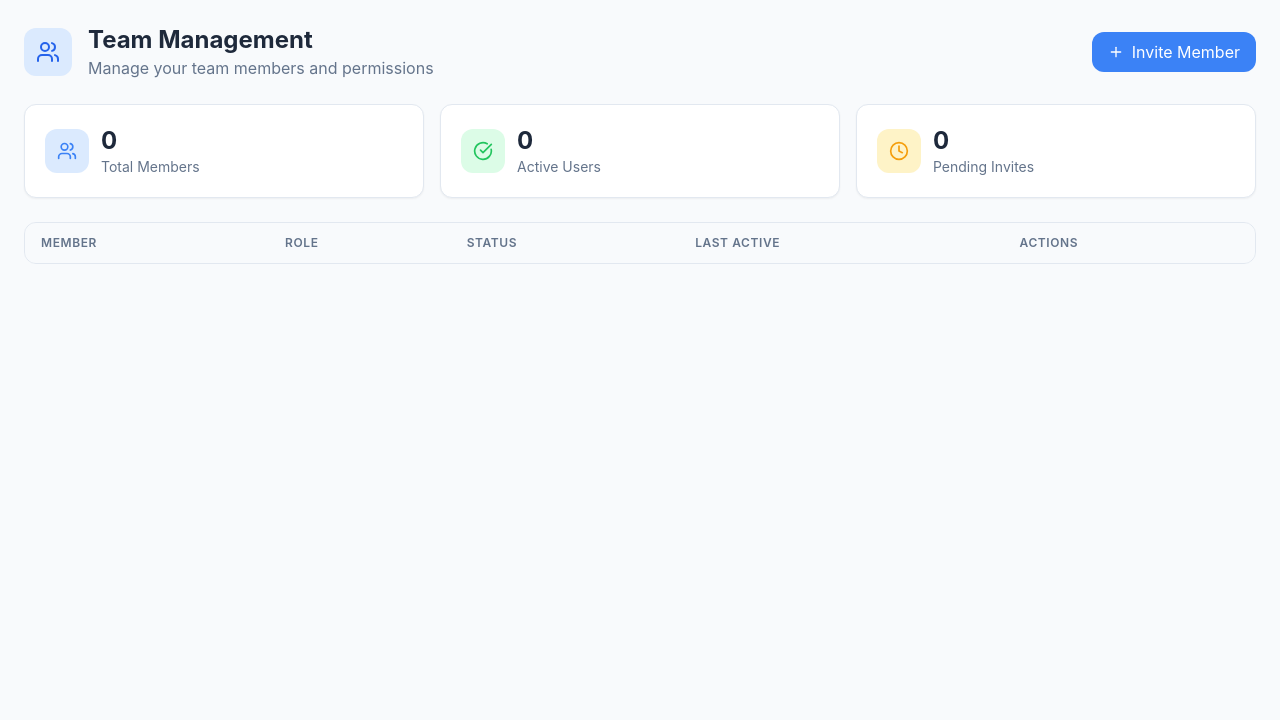
Test: TeamPage › invite button › should open modal when Invite button is clicked
Click the button "Invite Member".
click(1174, 52)  # box [1092, 32, 1256, 72]
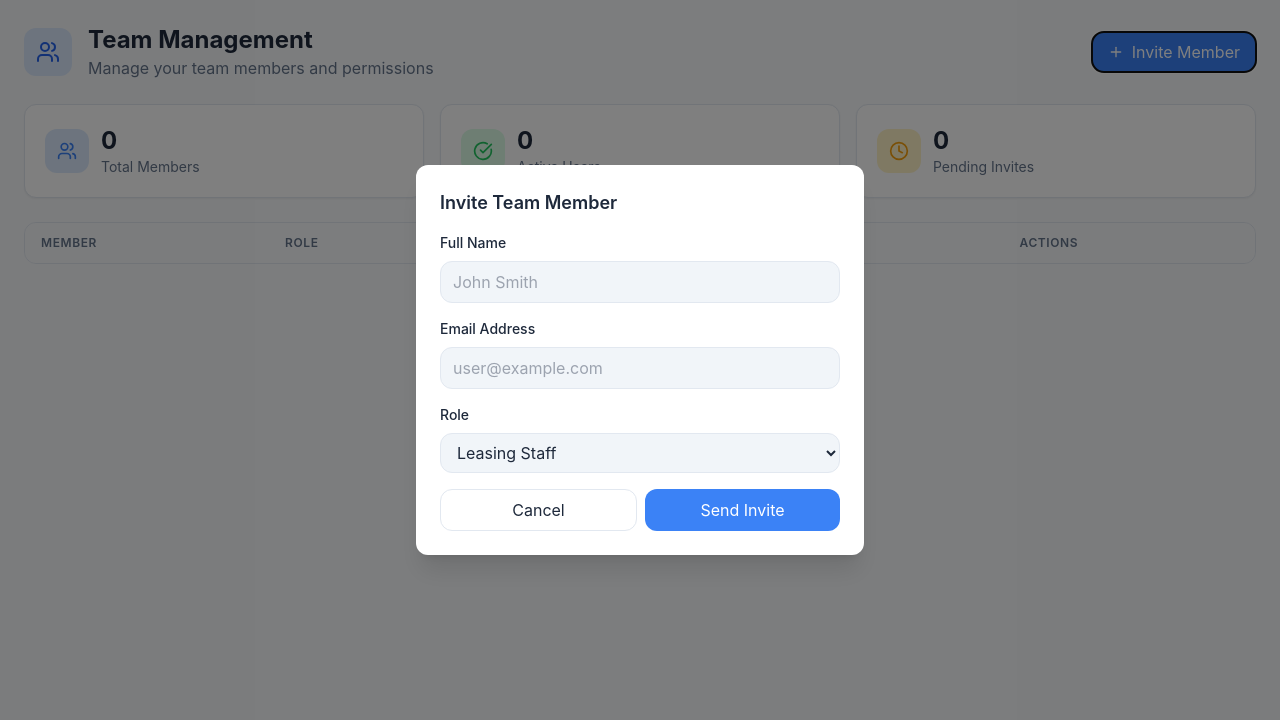
expect the heading "Invite Team Member" is shown: met, box [440, 192, 617, 213]
